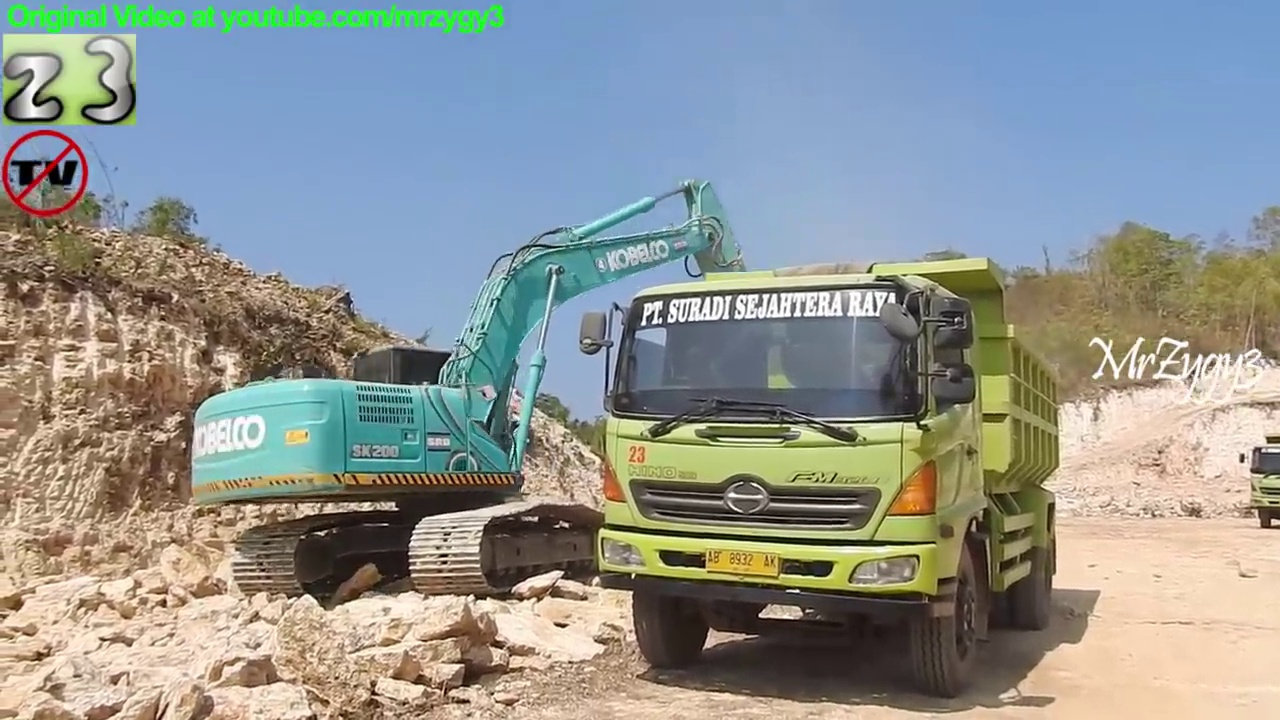excavator: (184, 172, 877, 607)
truck: (574, 248, 1071, 706), (1236, 430, 1280, 536)
